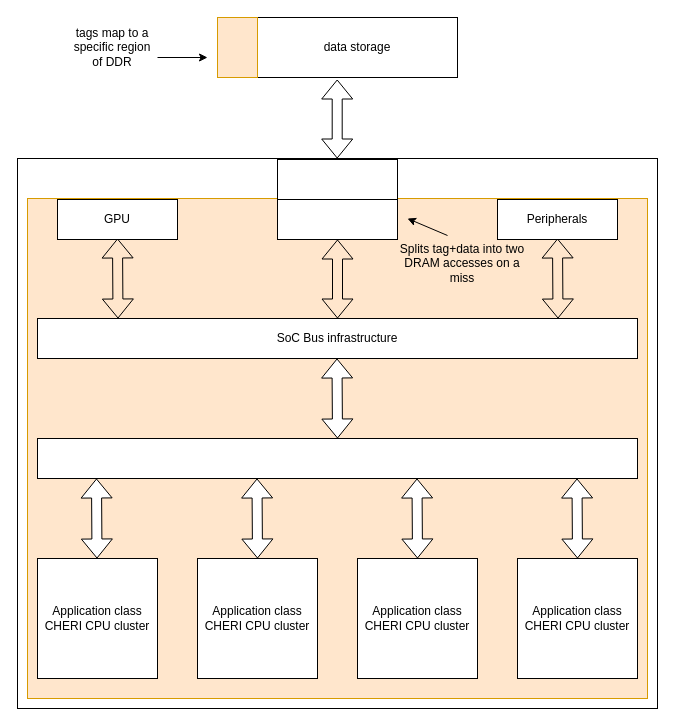
Image size: 675x726. Some labels were removed from this diagram. Here are the shapes that lost their labels. From the top down, the box of each, then its label:
(216, 16, 258, 78): tag storage
(276, 158, 398, 200): DRAM Controller
(276, 198, 398, 240): CHERI tag cache
(36, 438, 638, 478): Shared L3 cache
